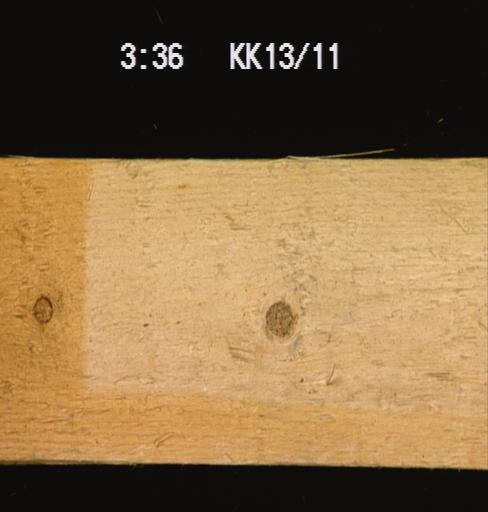dry_knot: (30, 294, 53, 324)
sound_knot: (264, 298, 294, 339)
